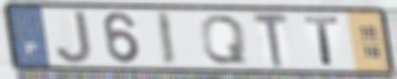6: (101, 11, 143, 65)
I: (153, 10, 178, 68)
J: (53, 9, 94, 66)
Q: (198, 13, 249, 66)
T: (250, 11, 292, 69), (301, 15, 343, 67)
